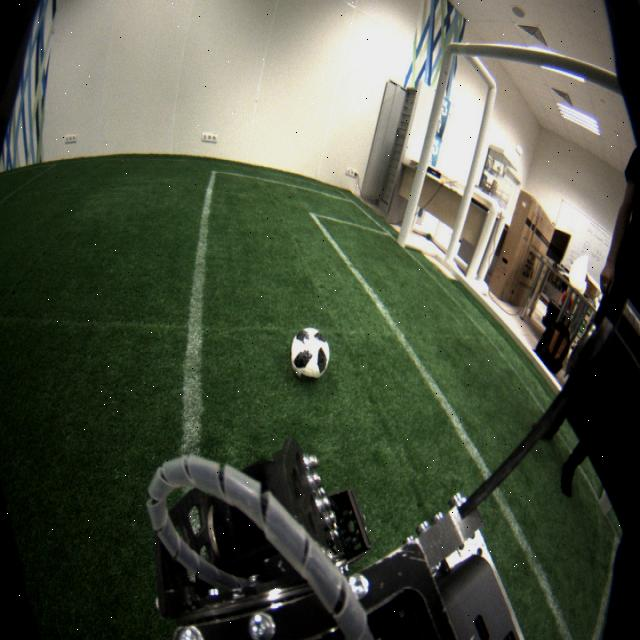ball: (291, 328, 329, 380)
goalpost: (396, 41, 464, 249)
